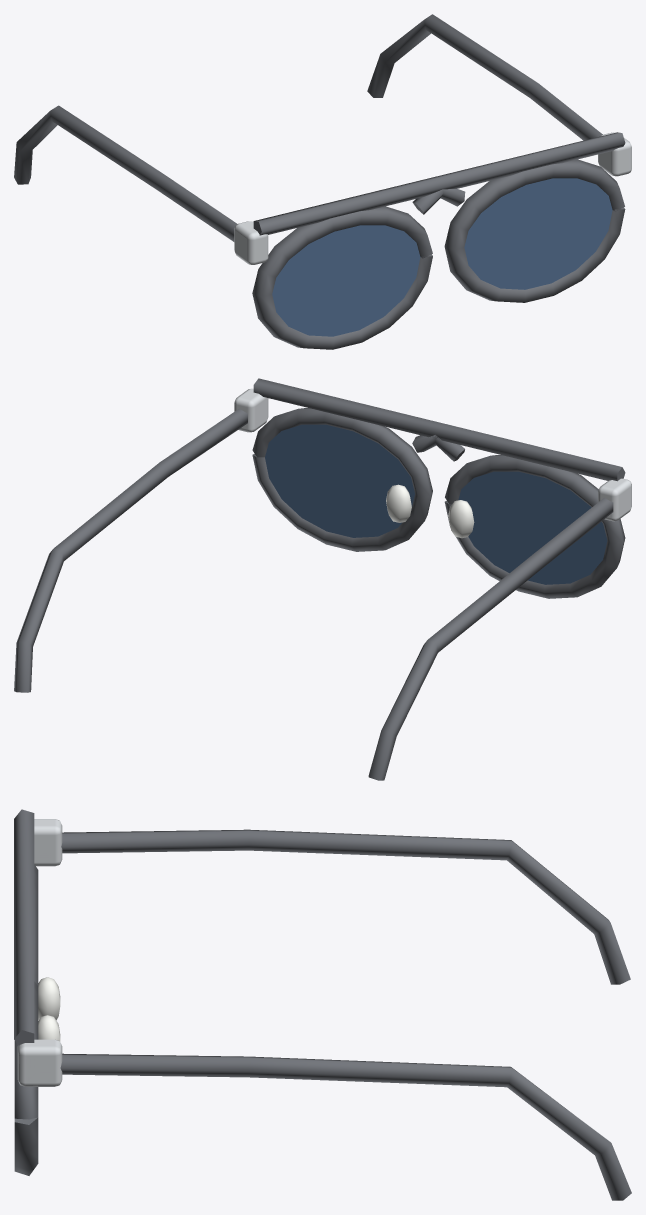
File: acc_shades.glb
The picture shows the model from 3 angles, top to bottom: view 1: azimuth 30°, elevation 25°; view 2: azimuth 150°, elevation 25°; view 3: azimuth 270°, elevation 25°; orthographic projection. The views are drawn at different scales.
Visible parts, largest first — view 1: sport-sunglasses-charcoal, sport-sunglasses-navy, sport-sunglasses-steel; view 2: sport-sunglasses-charcoal, sport-sunglasses-navy, sport-sunglasses-steel, sport-sunglasses-foam; view 3: sport-sunglasses-charcoal, sport-sunglasses-steel, sport-sunglasses-foam.
Part boxes in pixels (bbox=[...]): sport-sunglasses-charcoal: bbox=[14, 14, 625, 349]; sport-sunglasses-navy: bbox=[272, 178, 612, 336]; sport-sunglasses-steel: bbox=[234, 132, 631, 264]; sport-sunglasses-charcoal: bbox=[14, 378, 625, 780]; sport-sunglasses-navy: bbox=[265, 424, 607, 584]; sport-sunglasses-steel: bbox=[234, 388, 631, 521]; sport-sunglasses-foam: bbox=[386, 484, 474, 538]; sport-sunglasses-charcoal: bbox=[14, 809, 631, 1200]; sport-sunglasses-steel: bbox=[17, 819, 62, 1086]; sport-sunglasses-foam: bbox=[38, 977, 60, 1041].
Size of the model in its own units: 0.1494 by 0.054 by 0.1658.
